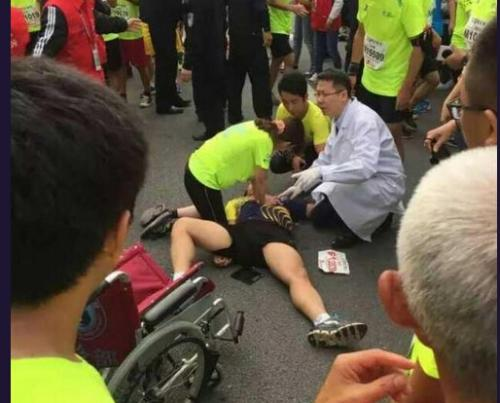10+: (11, 1, 500, 402)
down: (164, 178, 370, 353)
